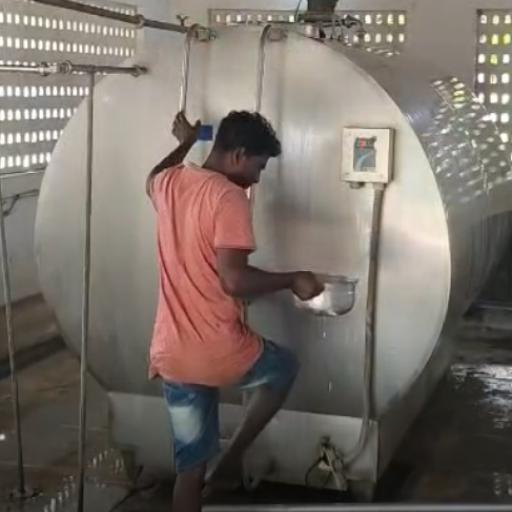silo: (34, 18, 509, 489)
vessel: (293, 273, 359, 318)
